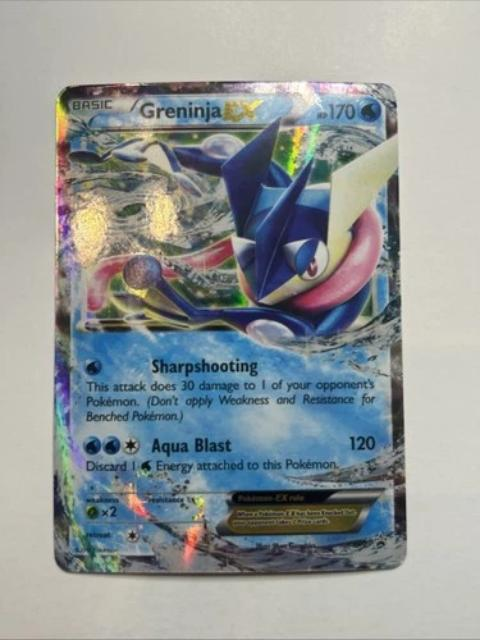Card: (47, 69, 411, 580)
Name: (131, 94, 272, 125)
